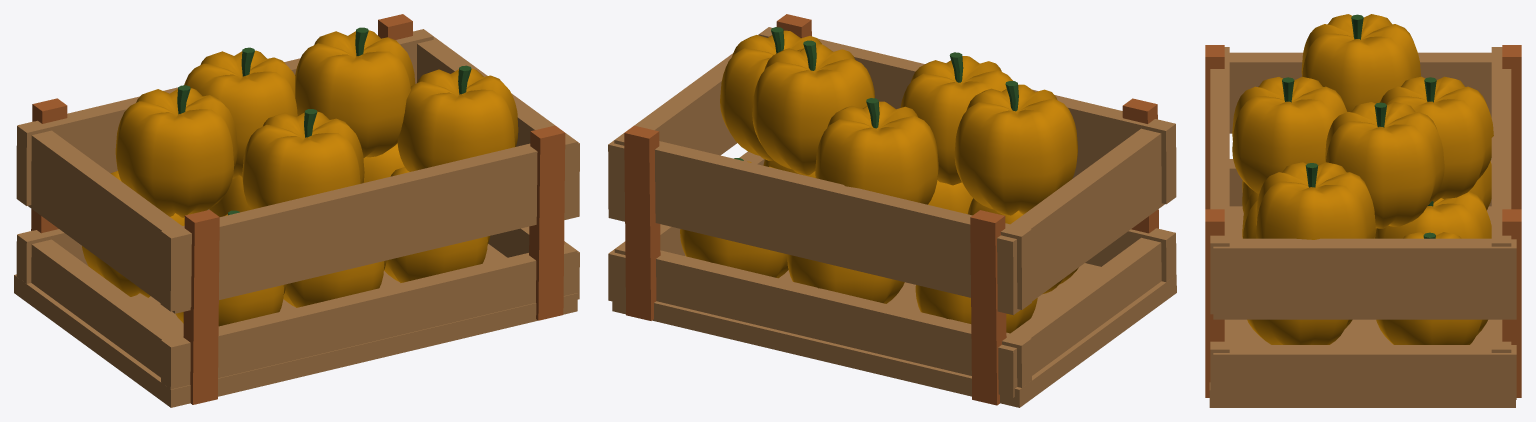
File: PaprikaCrate_03.fbx
3 renders of one model, left to right at view 1: azimuth 30°, elevation 25°; view 2: azimuth 150°, elevation 25°; view 3: azimuth 270°, elevation 25°, orthographic. The views are drawn at different scales.
Parts seen in each view (by area): view 1: pCube82, pCube78, pSphere61, pCube80, pCube88, pSphere63, pSphere65, pSphere64, pCube77, pSphere62, pCube86, pCube84 (+12 smaller); view 2: pCube81, pCube87, pCube80, pSphere61, pCube88, pSphere63, pSphere62, pCube77, pCube82, pCube83, pCube79, pSphere64 (+11 smaller); view 3: pCube79, pCube76, pSphere63, pSphere64, pSphere61, pSphere65, pSphere62, pCube88, pCube80, pCube81, pCube82, pSphere57 (+11 smaller).
Boxes of the visible parts, <box> form: pCube82: <box>160,134,577,311</box>; pCube78: <box>161,243,577,389</box>; pSphere61: <box>115,88,237,217</box>; pCube80: <box>18,121,190,313</box>; pCube88: <box>14,244,577,407</box>; pSphere63: <box>295,30,415,158</box>; pSphere65: <box>397,68,518,171</box>; pSphere64: <box>242,111,364,209</box>; pCube77: <box>18,230,181,377</box>; pSphere62: <box>184,50,297,179</box>; pCube86: <box>183,210,219,404</box>; pCube84: <box>529,125,565,320</box>; pCube81: <box>614,133,1031,309</box>; pCube87: <box>614,242,1031,387</box>; pCube80: <box>997,128,1164,315</box>; pSphere61: <box>954,84,1077,215</box>; pCube88: <box>612,255,1176,407</box>; pSphere63: <box>752,44,874,175</box>; pSphere62: <box>815,101,938,204</box>; pCube77: <box>998,237,1161,397</box>; pCube82: <box>758,27,1176,204</box>; pCube83: <box>624,125,660,320</box>; pCube79: <box>608,34,758,221</box>; pSphere64: <box>900,56,1012,185</box>; pCube79: <box>1213,238,1516,319</box>; pCube76: <box>1213,345,1516,399</box>; pSphere63: <box>1325,102,1444,228</box>; pSphere64: <box>1232,76,1346,193</box>; pSphere61: <box>1301,14,1420,112</box>; pSphere65: <box>1256,162,1375,239</box>; pSphere62: <box>1380,76,1493,202</box>; pCube88: <box>1209,206,1515,407</box>; pCube80: <box>1229,52,1491,133</box>; pCube81: <box>1491,47,1511,246</box>; pCube82: <box>1210,47,1229,314</box>; pSphere57: <box>1374,191,1491,238</box>.
Size of the model in its own units: 6.41 by 3.7 by 4.39.
